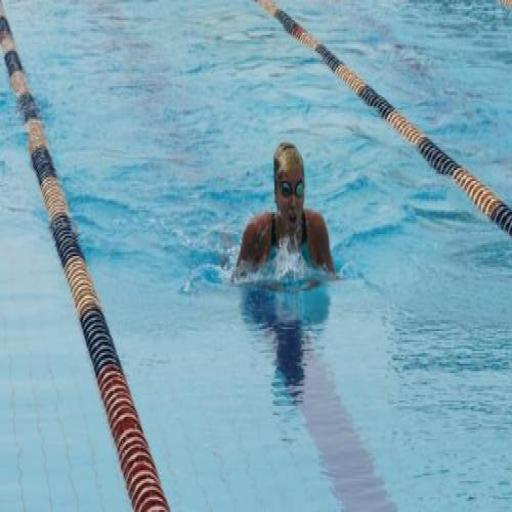swimming: (230, 139, 337, 289)
